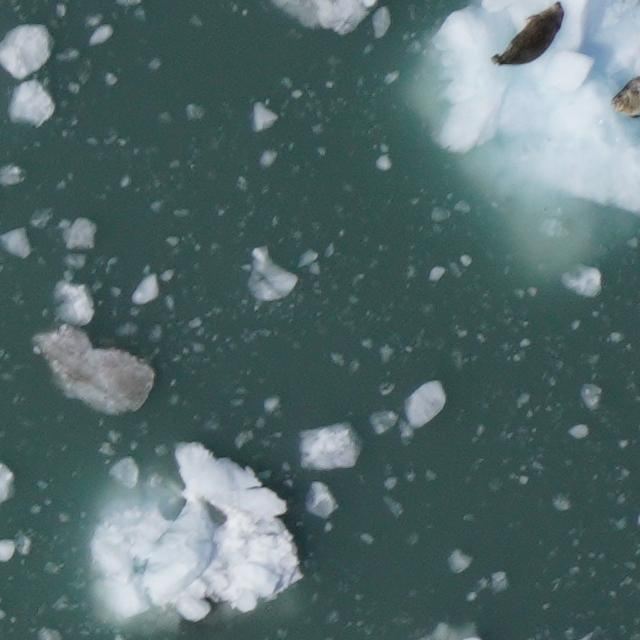seal: (484, 0, 570, 71), (607, 71, 640, 122)
